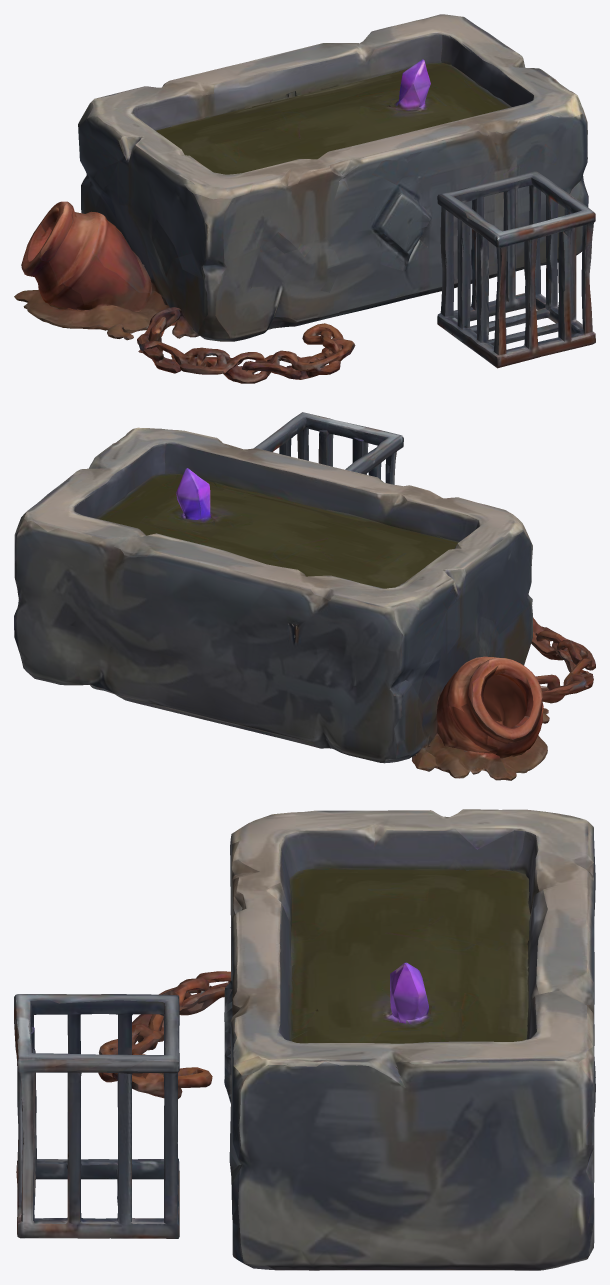
The model's file is cultivation_trough.glb.
3 renders of one model, top to bottom at view 1: azimuth 30°, elevation 25°; view 2: azimuth 150°, elevation 25°; view 3: azimuth 270°, elevation 25°, orthographic. The views are drawn at different scales.
Visible parts, largest first — view 1: geometry_0; view 2: geometry_0; view 3: geometry_0.
Boxes of the visible parts, x1,y1,x2,y2 form: geometry_0: (14,14,595,383); geometry_0: (14,412,595,780); geometry_0: (14,809,595,1270).
Size of the model in its own units: 1.2 by 0.463 by 0.9401.
1 material, 1 textured.
